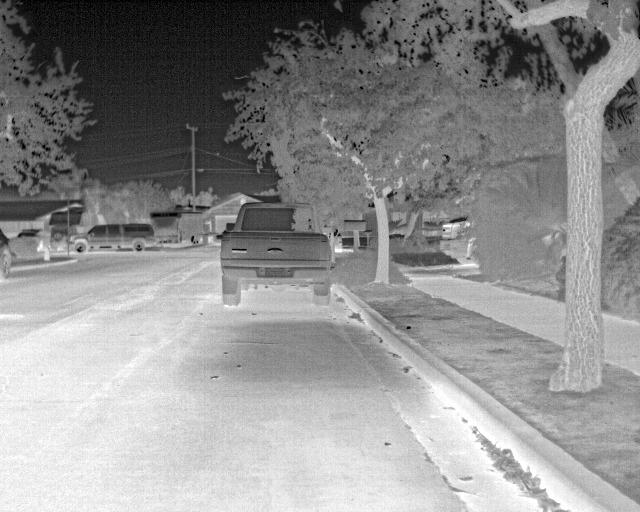bicycle: (214, 200, 332, 306), (75, 223, 153, 253), (44, 210, 67, 253), (440, 216, 474, 242), (0, 226, 15, 277)
